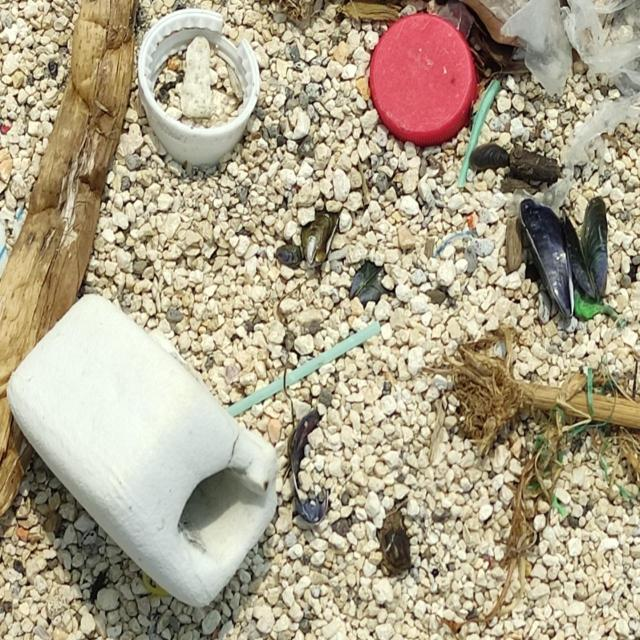plastic_waste: (138, 8, 261, 167), (228, 322, 384, 416), (370, 14, 479, 147)
styrofoam_waste: (4, 290, 281, 608)
